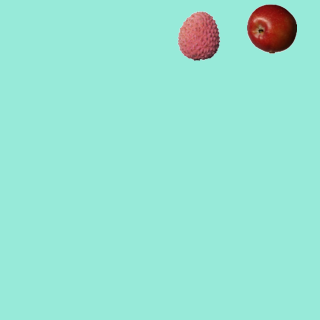Apple Braeburn: (246, 3, 296, 53)
Lychee: (173, 10, 223, 60)
